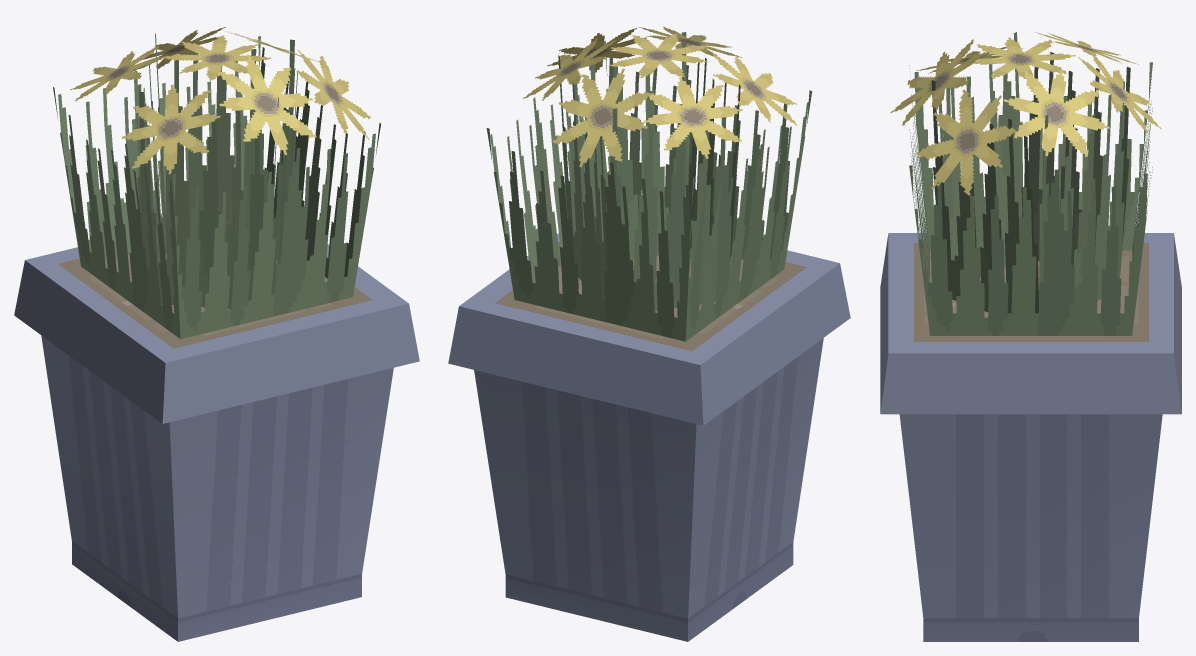
Rendered from 03d2_Flower_Pot.glb.
The picture shows the model from 3 angles, left to right: view 1: azimuth 30°, elevation 25°; view 2: azimuth 150°, elevation 25°; view 3: azimuth 270°, elevation 25°; orthographic projection. The views are drawn at different scales.
Visible parts, largest first — view 1: part_0; view 2: part_0; view 3: part_0.
Boxes of the visible parts, bbox=[...] form: part_0: bbox=[14, 27, 419, 641]; part_0: bbox=[448, 26, 850, 641]; part_0: bbox=[880, 32, 1181, 641].
Bounding box in the file's own units: 0.1418 × 0.2589 × 0.127.
Materials: 1 (1 with a texture image).
